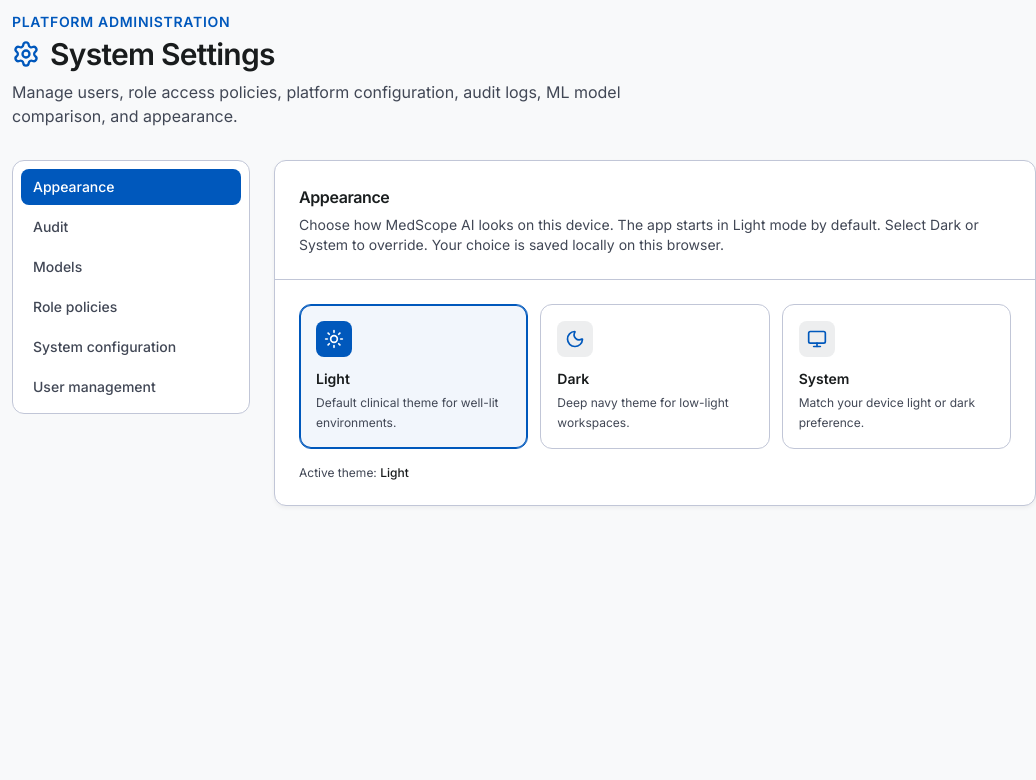
SettingsPage › switches to the audit section
This screenshot has width=1036, height=780.
Click the button "Audit" at (131, 227), box [21,209,241,245]
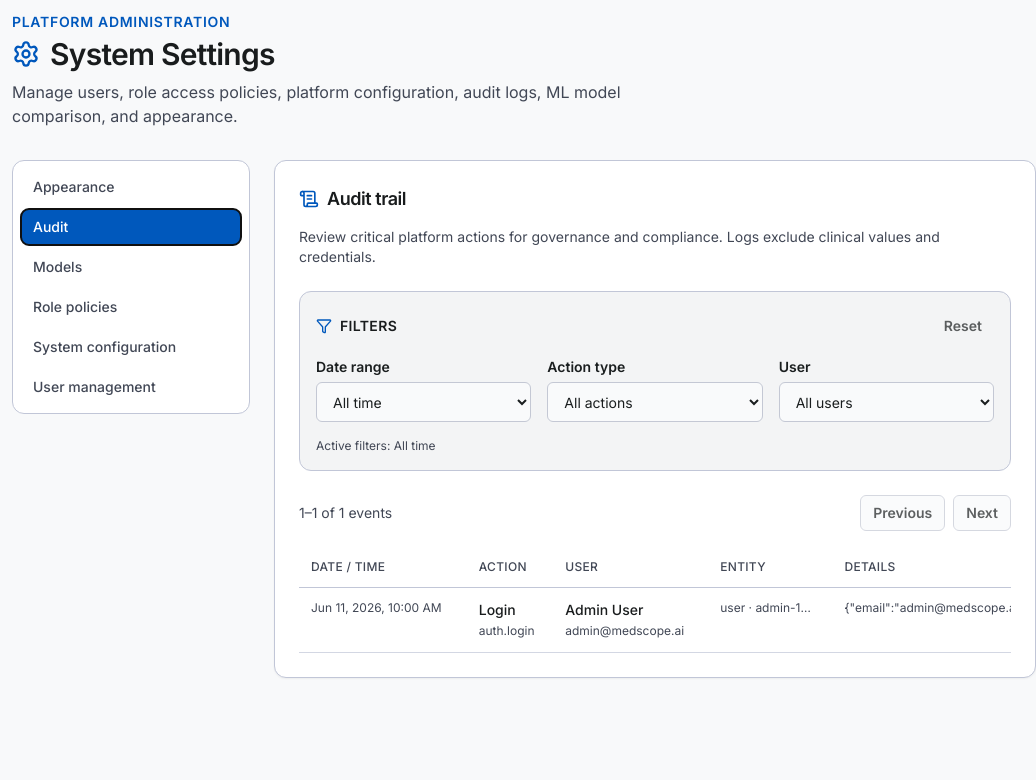
Expected: the heading "Audit trail" is shown, [299,188,406,209]
